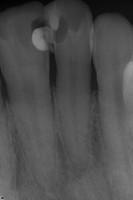Furcation Involvement: (11, 126, 74, 200), (67, 152, 89, 182), (91, 123, 103, 168)
